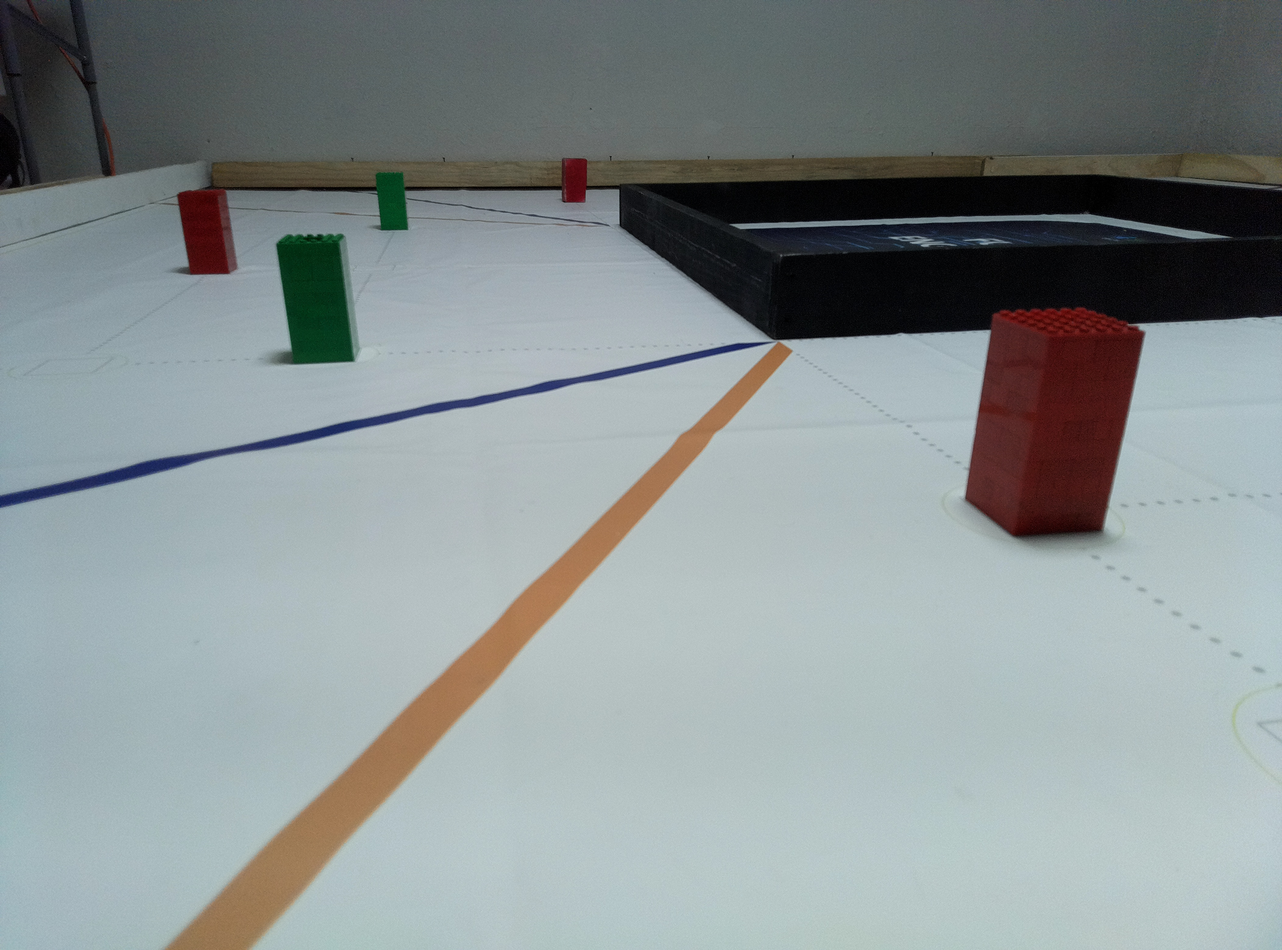greenbox: (276, 233, 362, 365), (375, 172, 409, 230)
redbox: (962, 305, 1146, 539), (177, 190, 239, 275), (561, 157, 588, 203)
